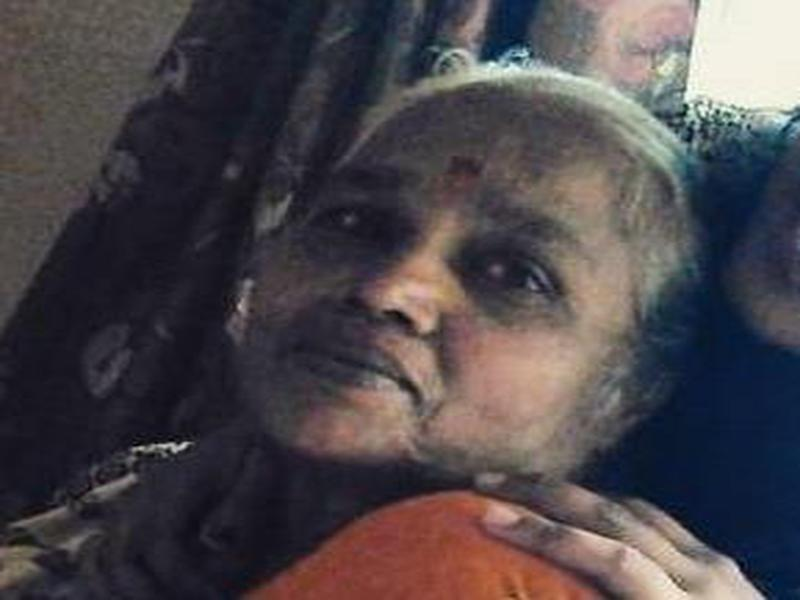without_mask: (251, 97, 621, 470)
